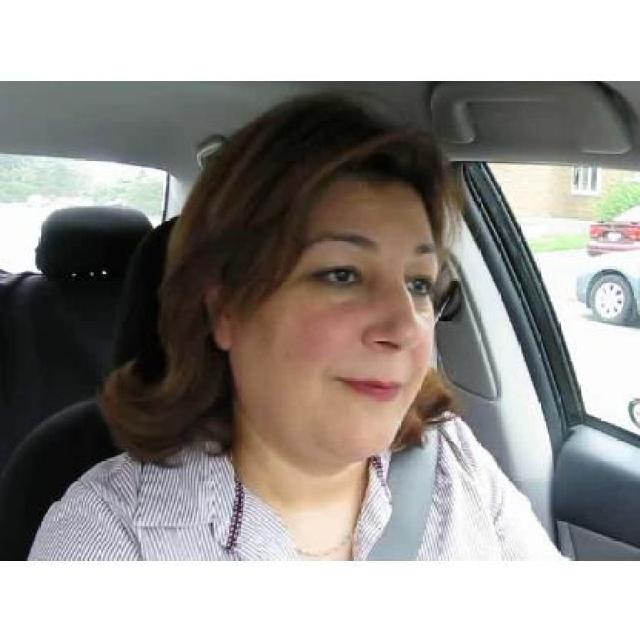attentif: (207, 93, 436, 461)
